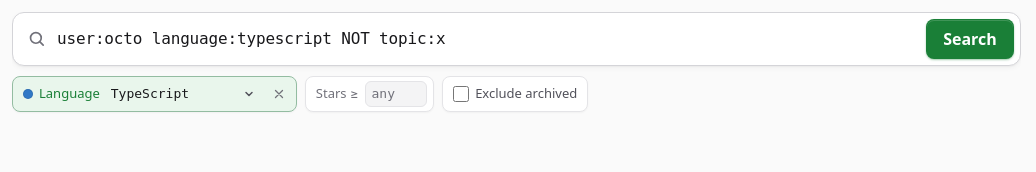
Test: SearchFilters › removes a chip, keeps the rest of the text, and moves focus to its control
The width and height of the screenshot is (1036, 172).
Click the button named "Remove language filter TypeScript" at (279, 94), box [266, 81, 292, 107]
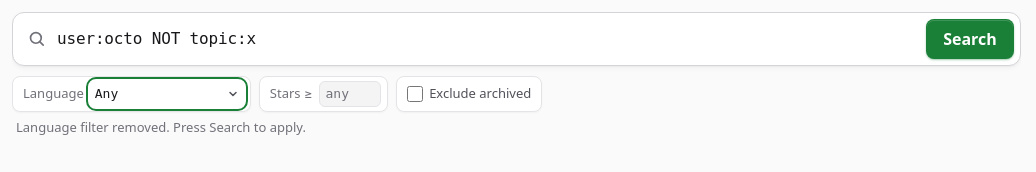
Expected: the dropdown named "Search repositories" holds "user:octo NOT topic:x", [12, 12, 1021, 66]
Expected: the dropdown labelled "Language" shows "Any", [90, 81, 244, 107]
Expected: the text with class "search-filters__status" reads "Language filter removed. Press Search to apply.", [16, 118, 306, 136]
